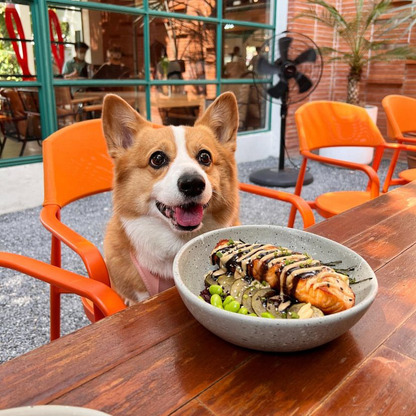Corgi: (84, 87, 252, 326)
